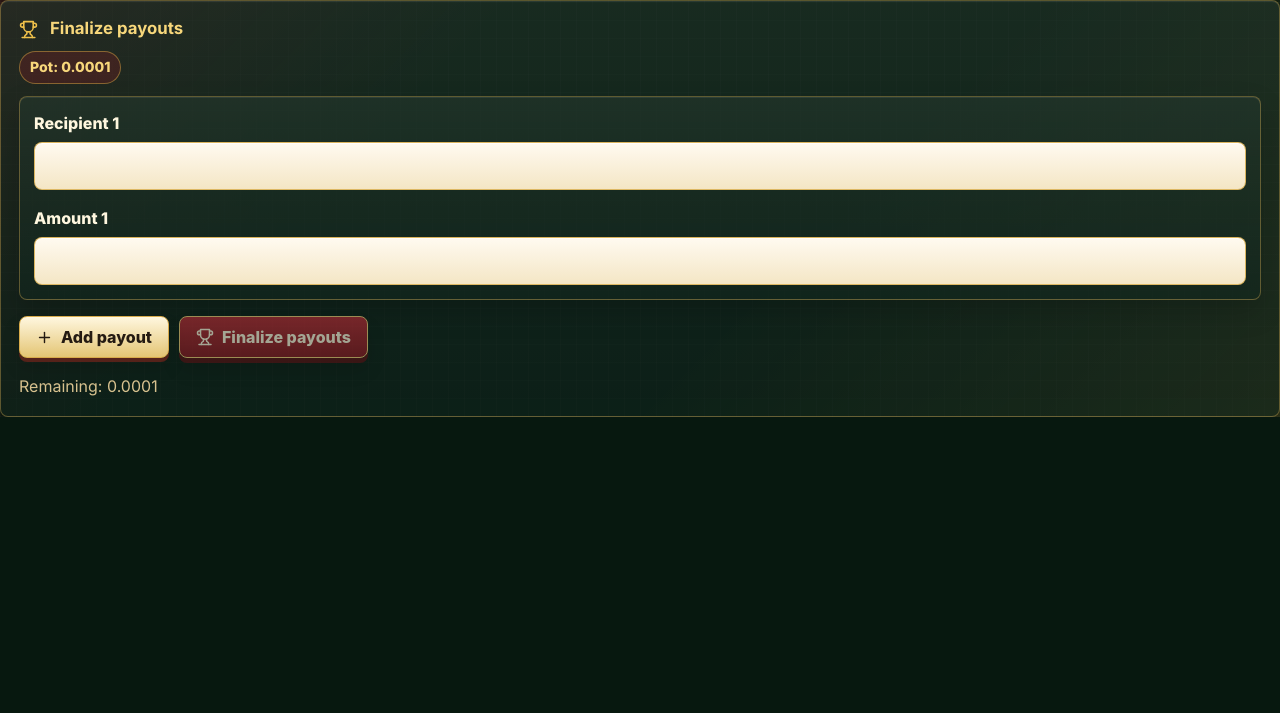
Test case: FinalizeForm › adds and removes payout rows
Click the button "Add payout": (94, 337) [19,316,169,358]
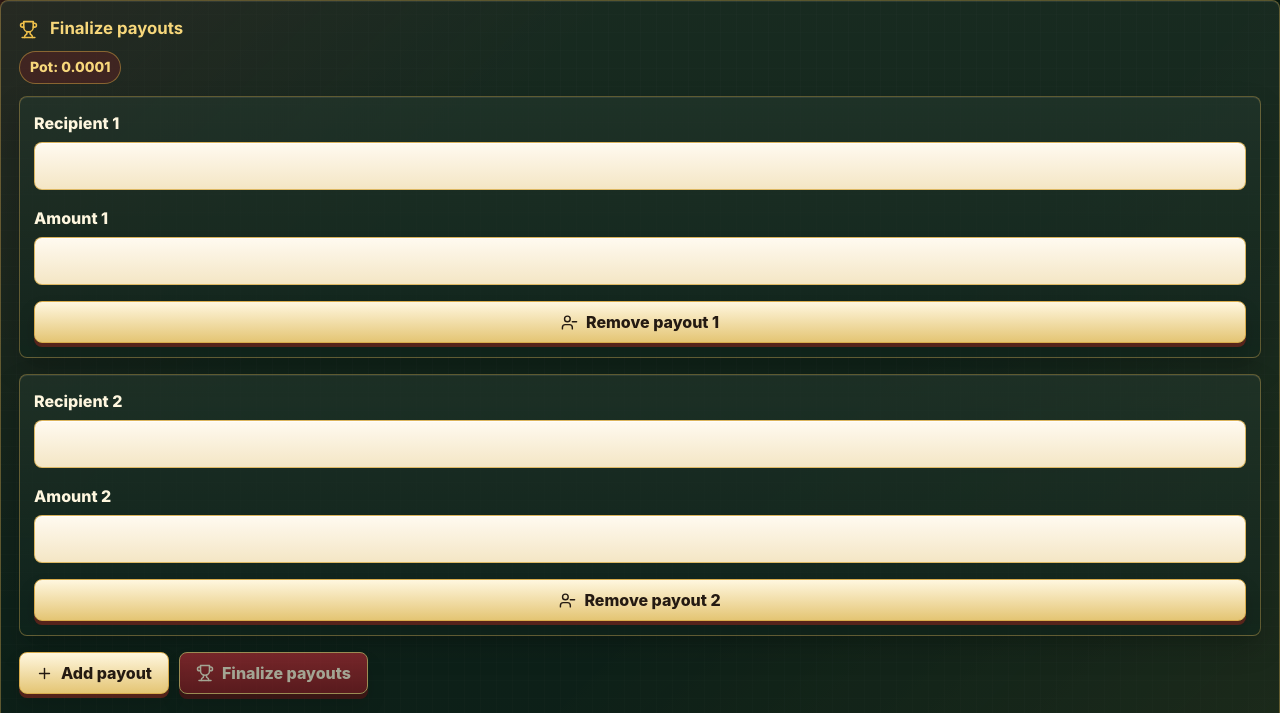
Result: the field labelled "Recipient 2" is shown at [34,420,1246,468]
Click the button "Remove payout 2": (640, 600) [34,579,1246,621]
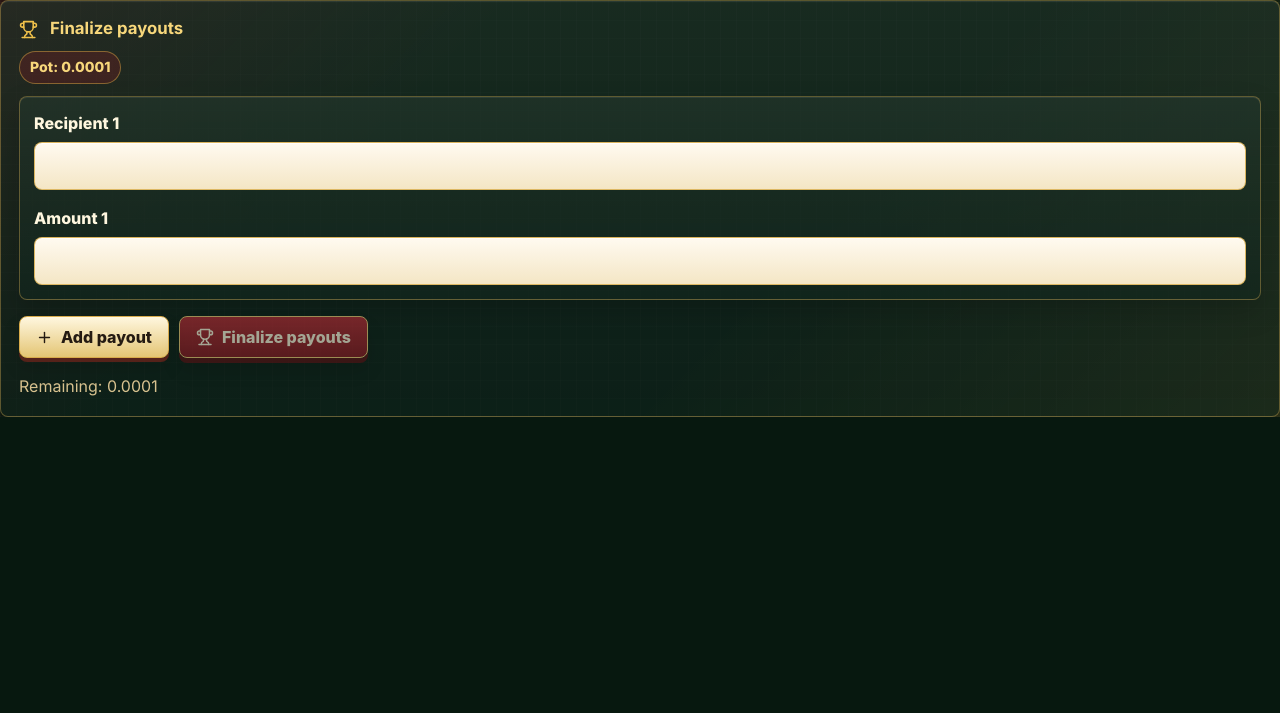
Result: the text labelled "Recipient 2" is gone
